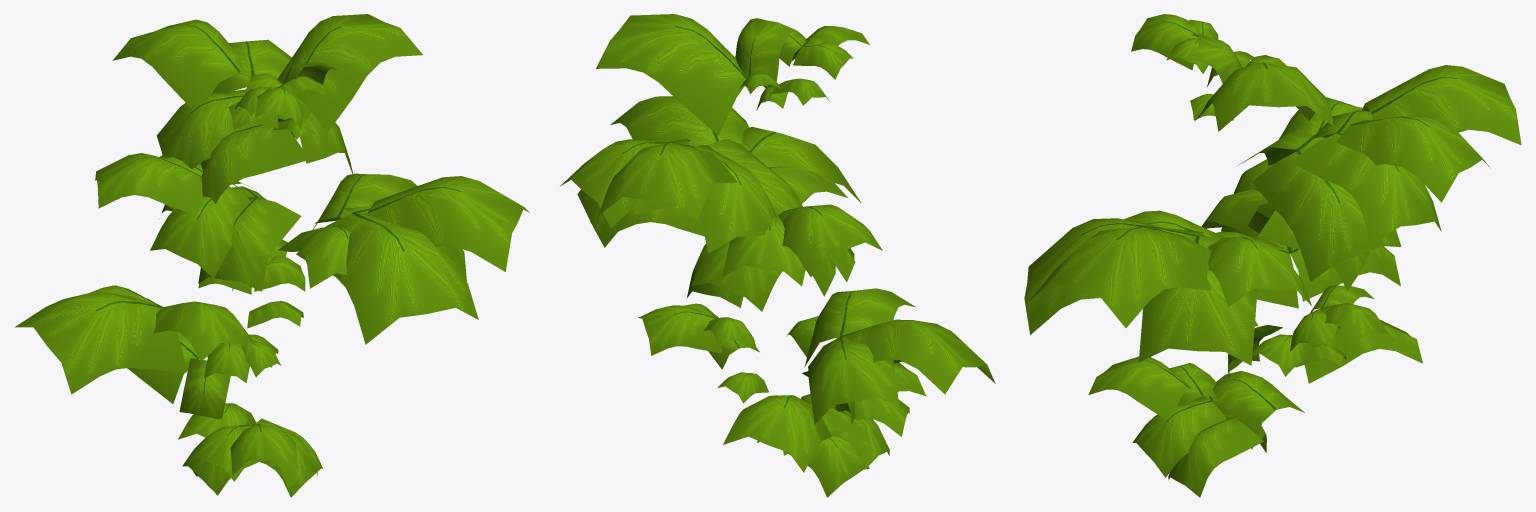
Rendered from BambooSet_part_23.fbx.
The picture shows the model from 3 angles, left to right: view 1: azimuth 30°, elevation 25°; view 2: azimuth 150°, elevation 25°; view 3: azimuth 270°, elevation 25°; orthographic projection. The views are drawn at different scales.
Parts seen in each view (by area): view 1: Object_46.001; view 2: Object_46.001; view 3: Object_46.001.
Part boxes in pixels (x1,y1,x2,y2): Object_46.001: (15,14,529,497); Object_46.001: (560,14,995,497); Object_46.001: (1024,14,1521,497).
Size of the model in its own units: 1520 by 1447 by 1403.
